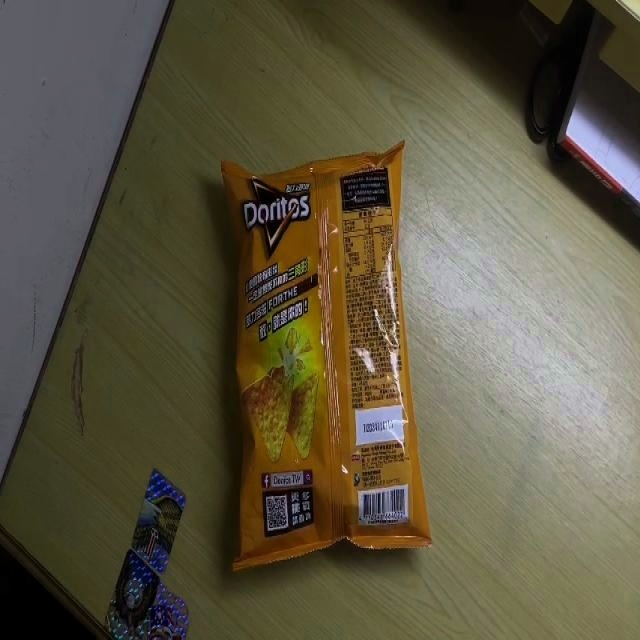Doritos: (223, 141, 434, 572)
